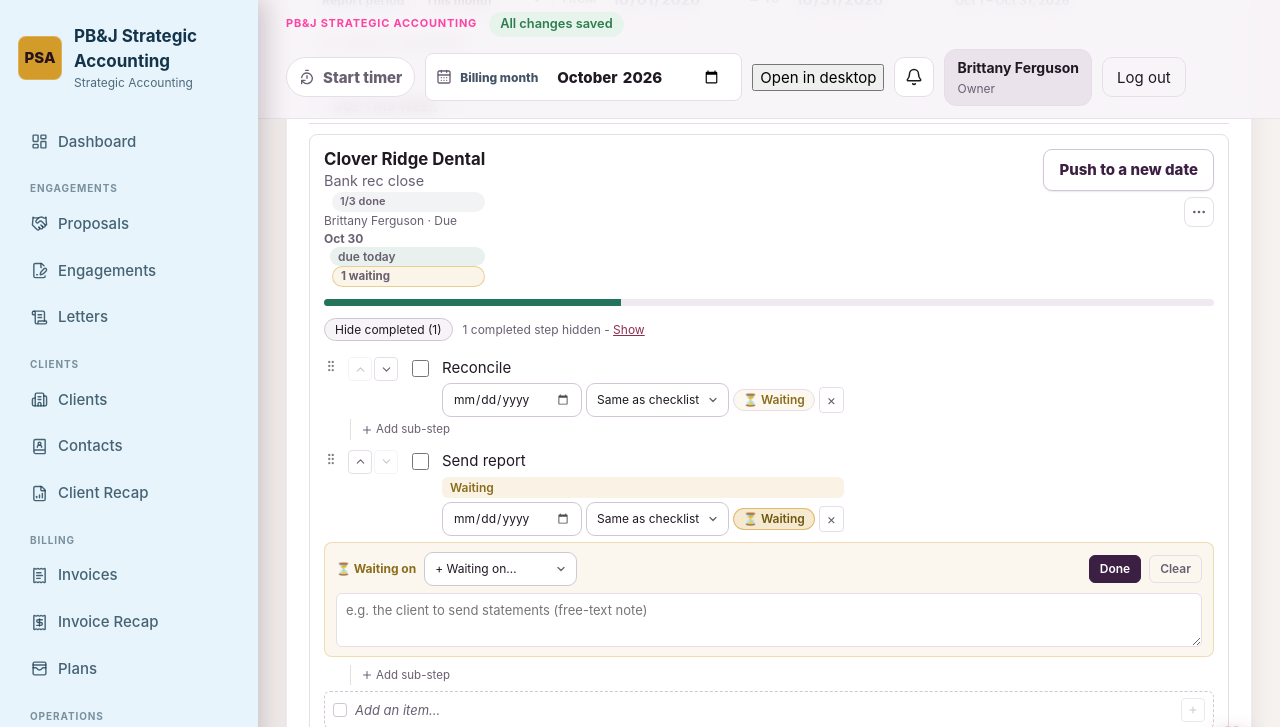
Scenario: after a "this + all future" step delete, the next autosave carries the server template › a second click on the same button is a clean refusal, not a "not saved" alarm
(page scrolled)
Expected: the text "Bank rec close" is shown, [324,172,424,189]
Click the button named "Delete item": [831, 400] box [819,387,844,413]
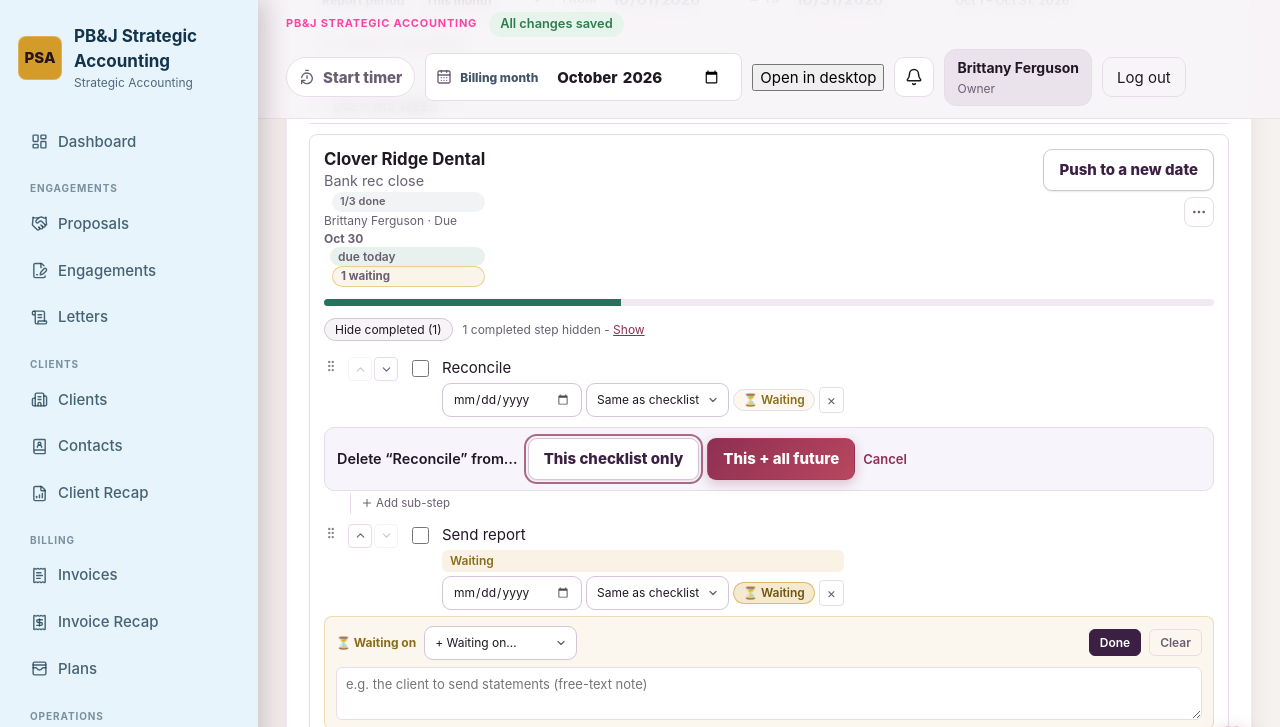
Click the button "This + all future": [781, 459] box [707,438,855,480]
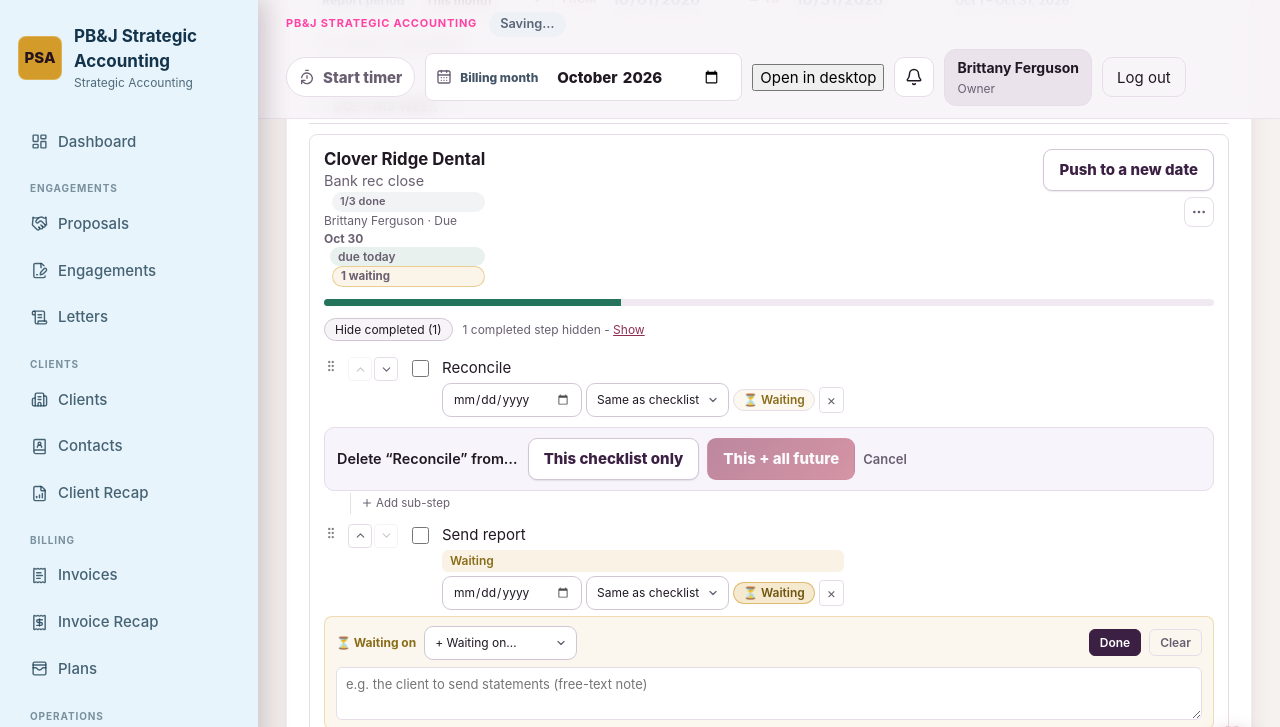
Click the button "This + all future": [781, 459] box [707,438,855,480]
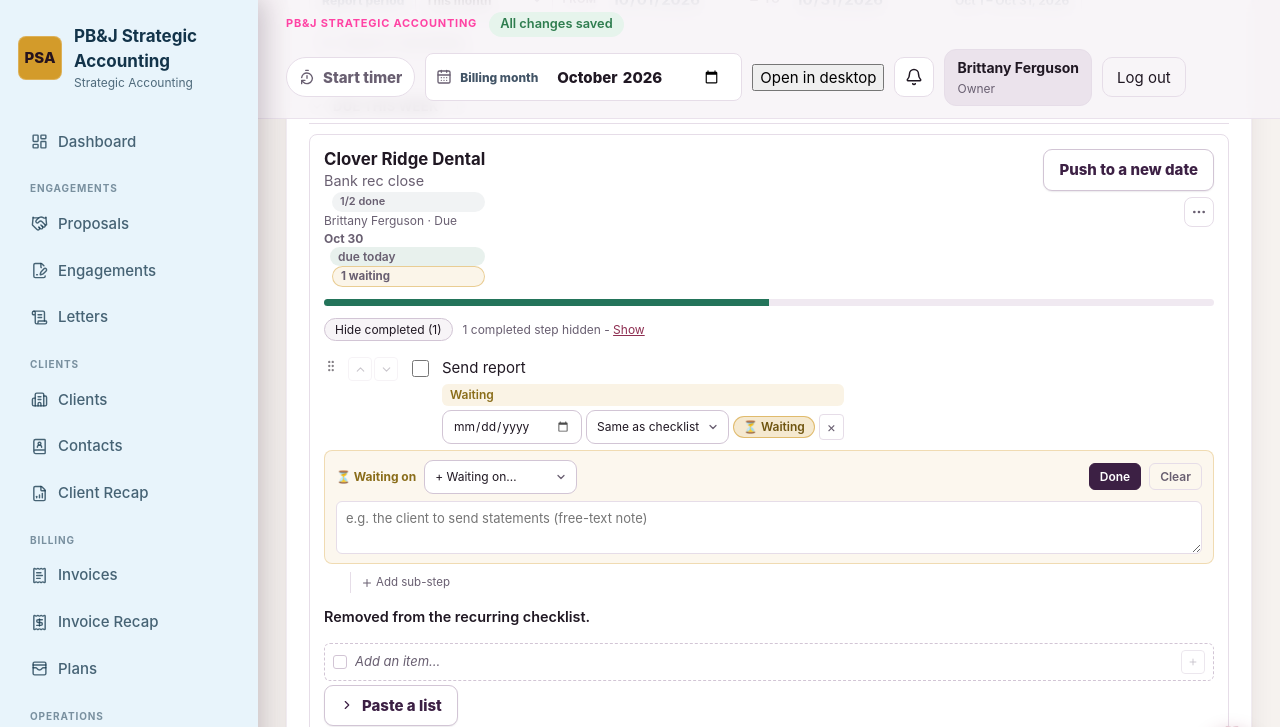
Result: the text "Removed from the recurring checklist." is shown at [324,608,590,625]
